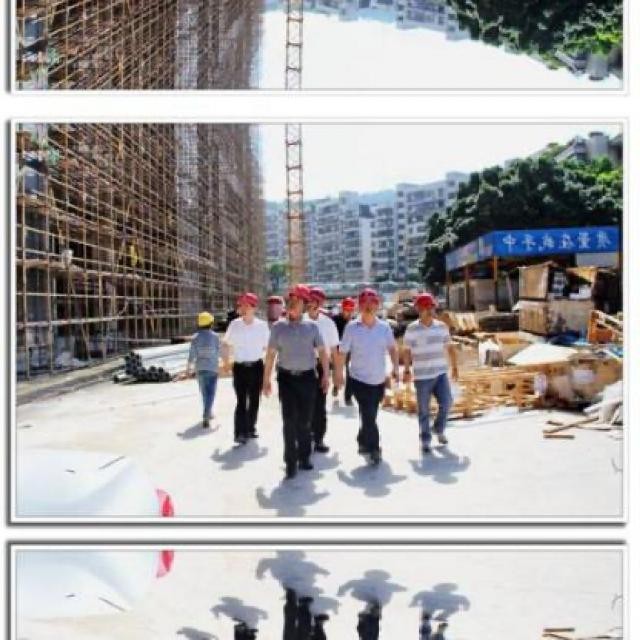helmet: (356, 284, 384, 321), (283, 282, 309, 318), (411, 290, 440, 322), (308, 285, 328, 321), (194, 308, 218, 334), (237, 290, 258, 319), (337, 293, 360, 316)
